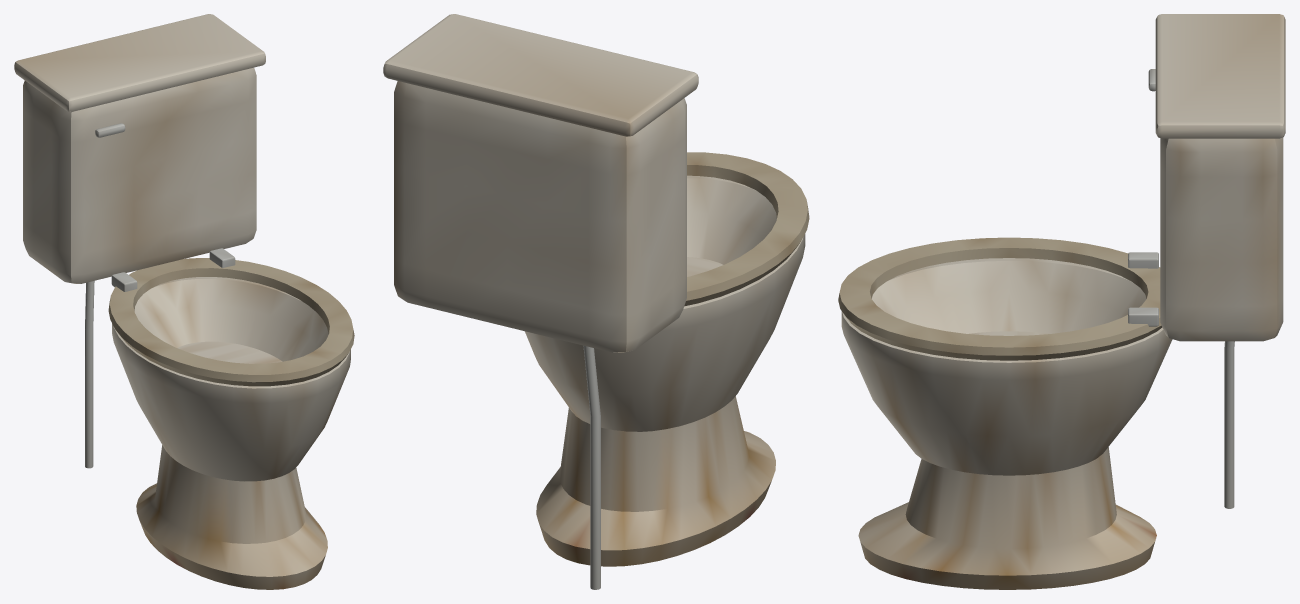
Rendered from toilet.glb.
3 renders of one model, left to right at view 1: azimuth 30°, elevation 25°; view 2: azimuth 150°, elevation 25°; view 3: azimuth 270°, elevation 25°, orthographic. The views are drawn at different scales.
Parts seen in each view (by area): view 1: toilet_metal; view 2: toilet_metal; view 3: toilet_metal.
Part boxes in pixels (x1=…): toilet_metal: x1=14, y1=14, x2=354, y2=589; toilet_metal: x1=383, y1=14, x2=809, y2=589; toilet_metal: x1=838, y1=14, x2=1285, y2=589.
Bounding box in the file's own units: 0.3799 × 0.76 × 0.636.
